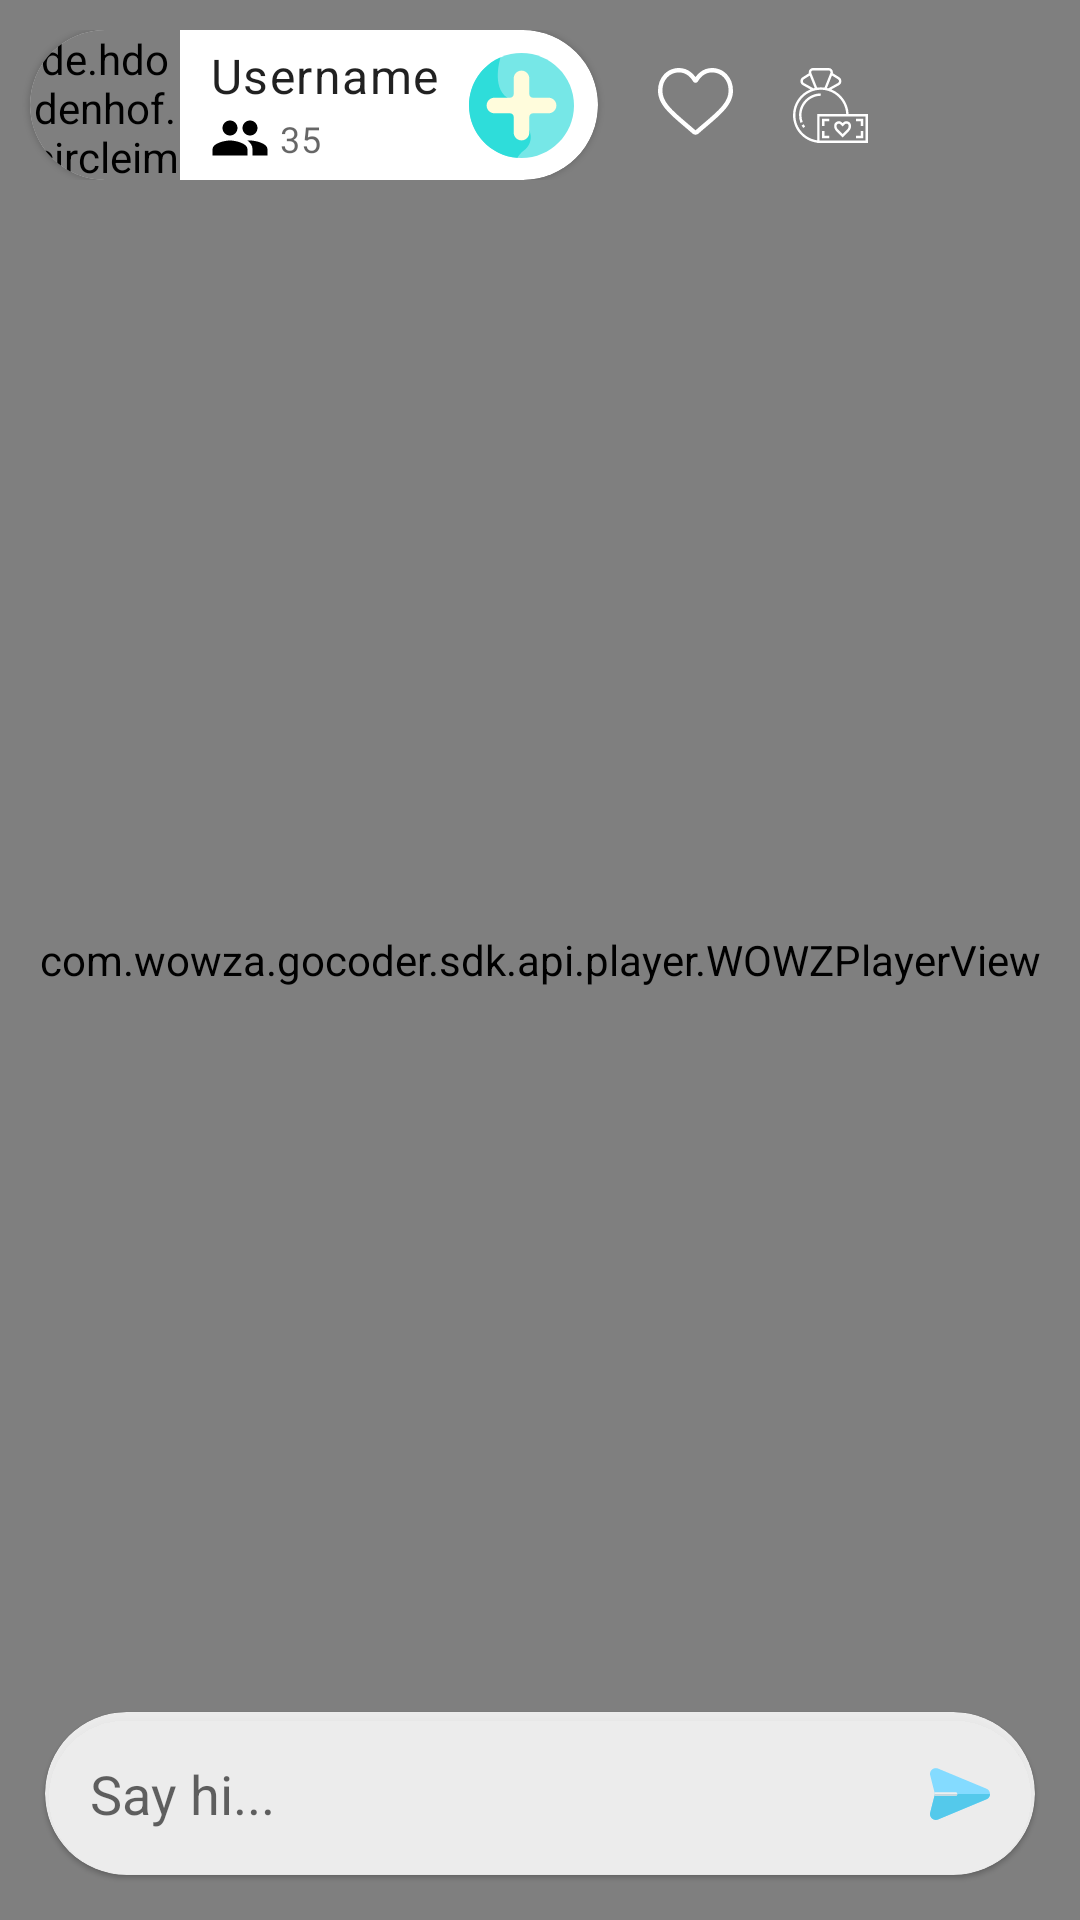

Named icons in this screenshot (1080px x 1920px) and their bounding boxes, rect(x1, y1, x2, y2):
donation: rect(793, 68, 868, 143)
heart: rect(658, 68, 733, 135)
send: rect(930, 1768, 990, 1820)
